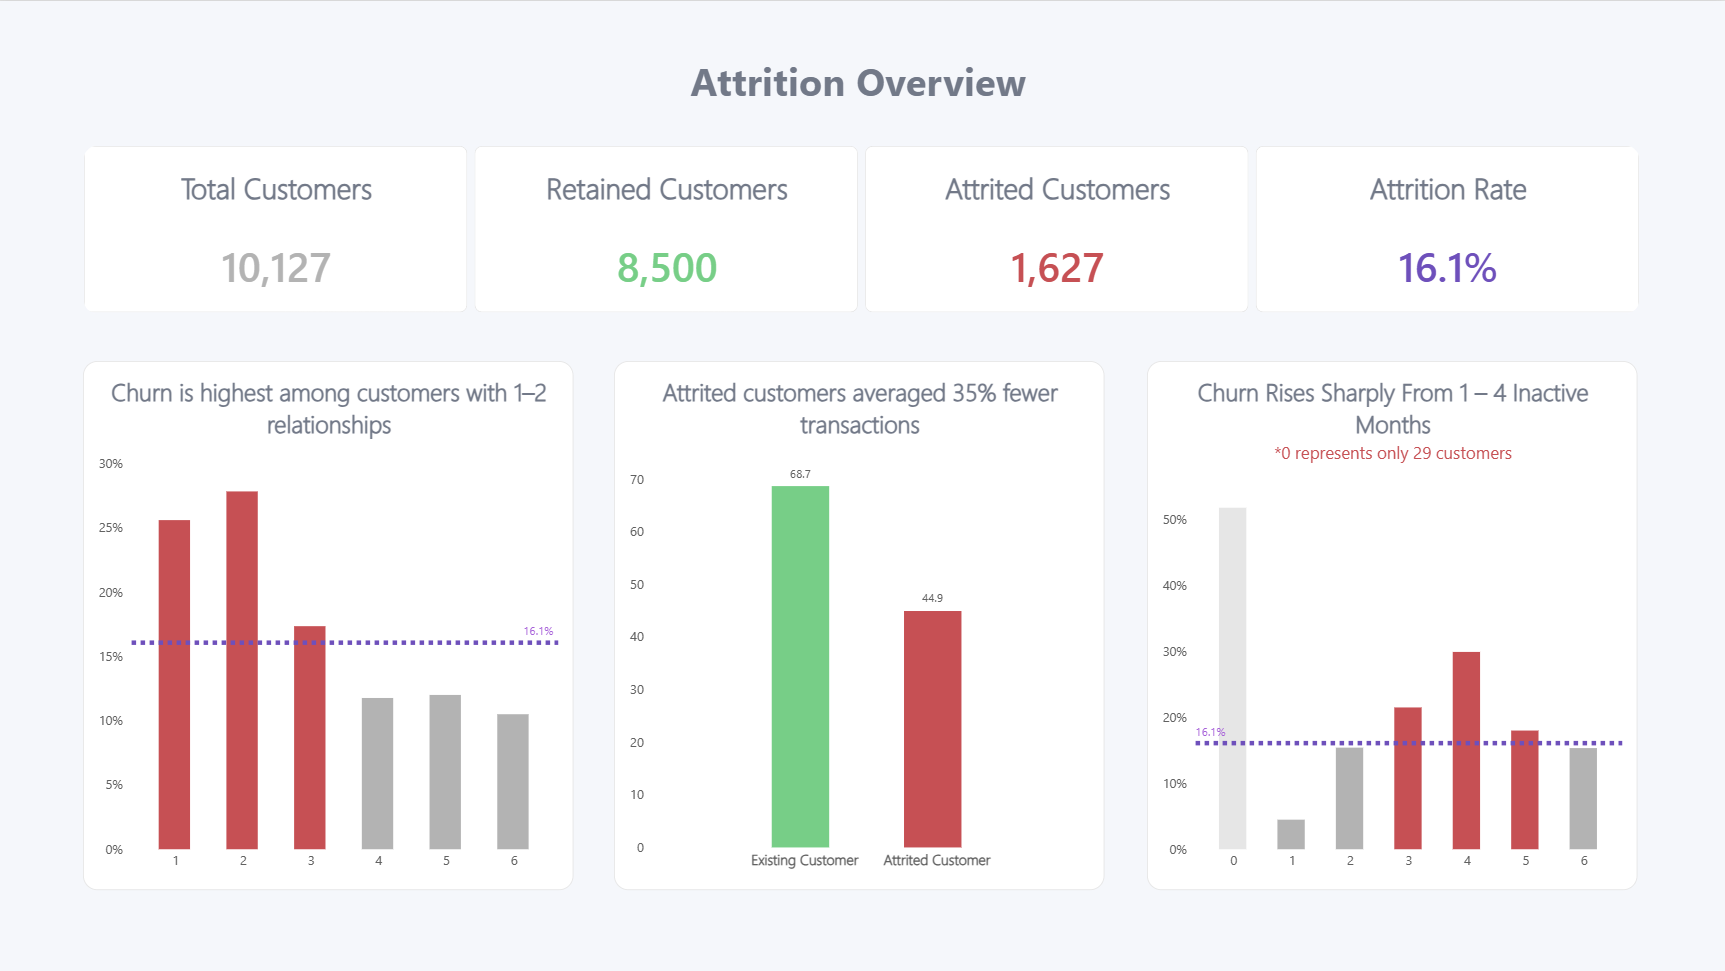

What the dashboard file says about the page in this screenshot:
{"tool":"powerbi","page":{"name":"Executive Overview","canvas":[1920,1080],"ordinal":0},"visuals":[{"type":"cardVisual","fields":{"Data":["Customers.Total Customers","Customers.Retained Customers","Customers.Attrited Customers","Customers.Attrition Rate"]},"box":[95,160,1730,187.5],"z":0},{"type":"clusteredColumnChart","title":"Churn is highest among customers with 1–2 relationships","fields":{"Category":["Customers.total_relationship_count"],"Y":["Customers.Attrition Rate"]},"box":[95,400,545,587.5],"z":1000},{"type":"clusteredColumnChart","title":"Attrited customers averaged 35% fewer transactions","fields":{"Category":["Customers.attrition_status"],"Y":["Avg(Customers.total_trans_ct)"]},"box":[685,400,545,587.5],"z":2000},{"type":"clusteredColumnChart","title":"Churn Rises Sharply From 1 – 4 Inactive Months","fields":{"Category":["Customers.months_inactive_12_mon"],"Y":["Customers.Attrition Rate"]},"box":[1277.5,400,545,587.5],"z":3000},{"type":"textbox","box":[92.5,60,1730,65],"z":4000}]}

Visuals, with their boxes in screenshot pixels (x1, y1, x2, y2), scaled from the page's 1920x1080 canvas onto the 1725x971 screenshot:
cardVisual - Customers.Total Customers x Customers.Retained Customers: box(85, 144, 1640, 312)
"Churn is highest among customers with 1–2 relationships" clusteredColumnChart: box(85, 360, 575, 888)
"Attrited customers averaged 35% fewer transactions" clusteredColumnChart: box(615, 360, 1105, 888)
"Churn Rises Sharply From 1 – 4 Inactive Months" clusteredColumnChart: box(1148, 360, 1637, 888)
textbox: box(83, 54, 1637, 112)
